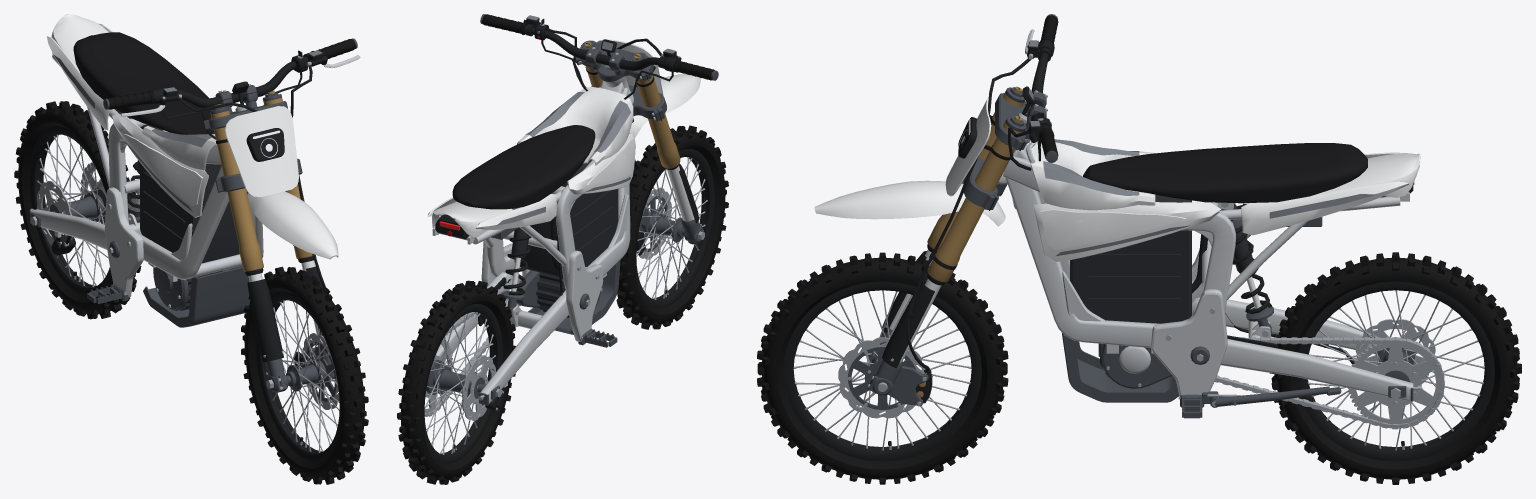
Rendered from SurRonLightBee.glb.
3 views of the same model, side by side, from view 1: azimuth 30°, elevation 25°; view 2: azimuth 150°, elevation 25°; view 3: azimuth 270°, elevation 25° (orthographic). The views are drawn at different scales.
Parts seen in each view (by area): view 1: Body, Steering, FrontWheel, RearWheel, ForkLowers, Swingarm; view 2: Body, RearWheel, FrontWheel, Steering, Swingarm, ForkLowers; view 3: Body, RearWheel, FrontWheel, Steering, Swingarm, ForkLowers.
Part boxes in pixels (x1=…): Body: x1=47, y1=14, x2=263, y2=327; Steering: x1=103, y1=38, x2=360, y2=275; FrontWheel: x1=241, y1=266, x2=368, y2=484; RearWheel: x1=14, y1=101, x2=141, y2=319; ForkLowers: x1=247, y1=256, x2=334, y2=392; Swingarm: x1=29, y1=162, x2=142, y2=255; Body: x1=427, y1=76, x2=635, y2=347; RearWheel: x1=397, y1=280, x2=515, y2=484; FrontWheel: x1=616, y1=125, x2=728, y2=329; Steering: x1=480, y1=14, x2=718, y2=169; Swingarm: x1=424, y1=272, x2=568, y2=416; ForkLowers: x1=633, y1=159, x2=704, y2=255; Body: x1=998, y1=139, x2=1420, y2=418; RearWheel: x1=1269, y1=252, x2=1521, y2=484; FrontWheel: x1=757, y1=252, x2=1008, y2=484; Steering: x1=814, y1=14, x2=1058, y2=285; Swingarm: x1=1192, y1=297, x2=1444, y2=429; ForkLowers: x1=867, y1=249, x2=941, y2=406.
Size of the model in its own units: 2.88 by 3.93 by 6.71.
1 material, 1 textured.
